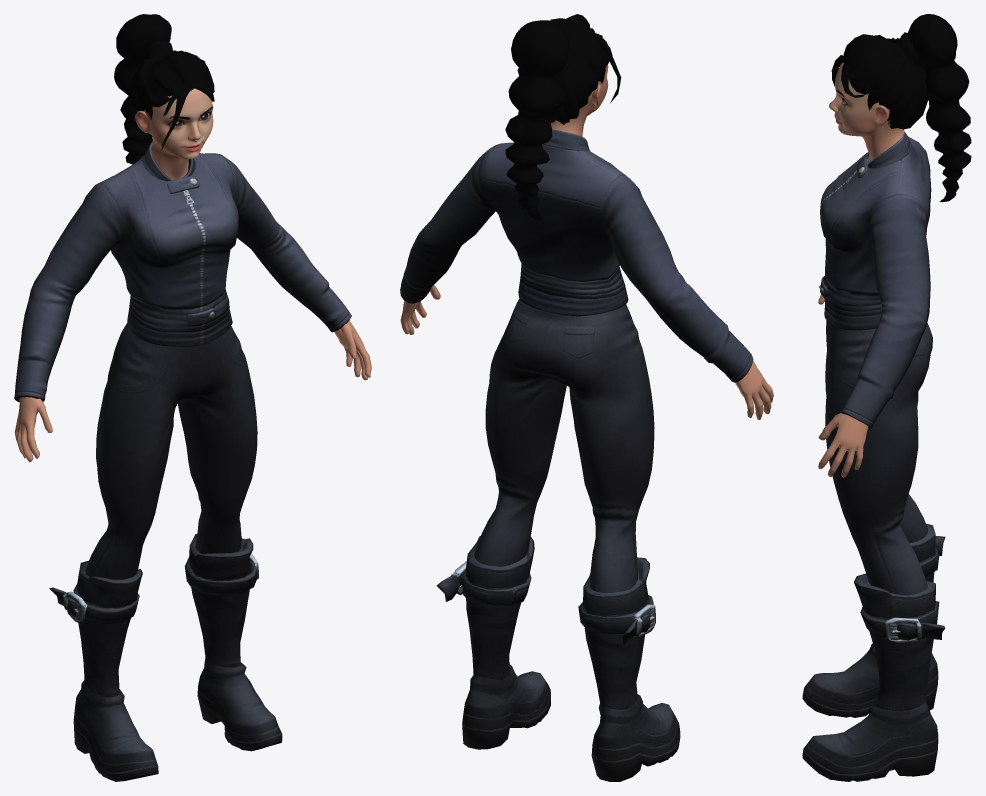
File: mynewavatarglb.glb
3 renders of one model, left to right at view 1: azimuth 30°, elevation 25°; view 2: azimuth 150°, elevation 25°; view 3: azimuth 270°, elevation 25°, orthographic. The views are drawn at different scales.
Visible parts, largest first — view 1: Wolf3D_Outfit_Top, Wolf3D_Outfit_Bottom, Wolf3D_Outfit_Footwear, Wolf3D_Hair, Wolf3D_Head, Wolf3D_Body; view 2: Wolf3D_Outfit_Bottom, Wolf3D_Outfit_Top, Wolf3D_Outfit_Footwear, Wolf3D_Hair, Wolf3D_Body, Wolf3D_Head; view 3: Wolf3D_Outfit_Top, Wolf3D_Outfit_Footwear, Wolf3D_Outfit_Bottom, Wolf3D_Hair, Wolf3D_Head, Wolf3D_Body.
Boxes of the visible parts, x1,y1,x2,y2 form: Wolf3D_Outfit_Top: [14, 141, 351, 401]; Wolf3D_Outfit_Bottom: [85, 323, 257, 579]; Wolf3D_Outfit_Footwear: [49, 534, 282, 781]; Wolf3D_Hair: [114, 14, 214, 164]; Wolf3D_Head: [135, 88, 213, 179]; Wolf3D_Body: [14, 320, 371, 462]; Wolf3D_Outfit_Bottom: [474, 298, 654, 592]; Wolf3D_Outfit_Top: [400, 129, 753, 382]; Wolf3D_Outfit_Footwear: [436, 536, 680, 781]; Wolf3D_Hair: [505, 14, 621, 220]; Wolf3D_Body: [400, 285, 773, 419]; Wolf3D_Head: [551, 64, 608, 136]; Wolf3D_Outfit_Top: [820, 131, 931, 428]; Wolf3D_Outfit_Footwear: [802, 523, 945, 781]; Wolf3D_Outfit_Bottom: [825, 320, 932, 595]; Wolf3D_Hair: [831, 14, 971, 202]; Wolf3D_Head: [829, 62, 904, 161]; Wolf3D_Body: [818, 284, 868, 477].
Size of the model in its own units: 0.9279 by 1.82 by 0.3871.
8 materials, 8 textured.
